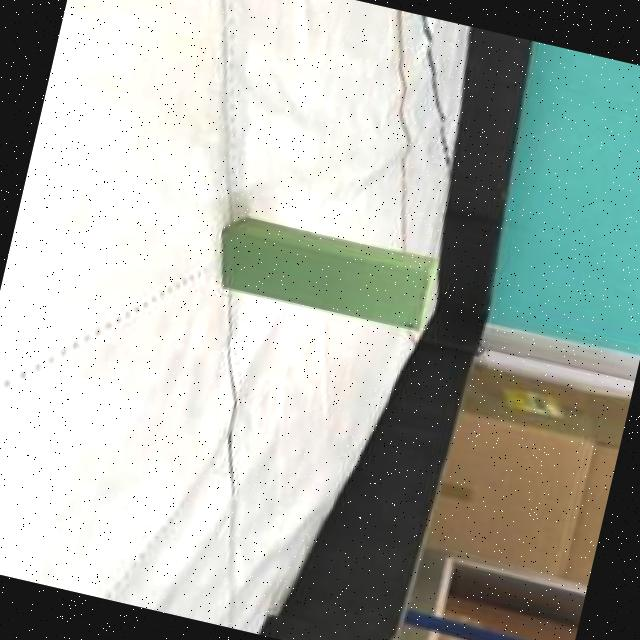greenbox: (207, 206, 448, 338)
